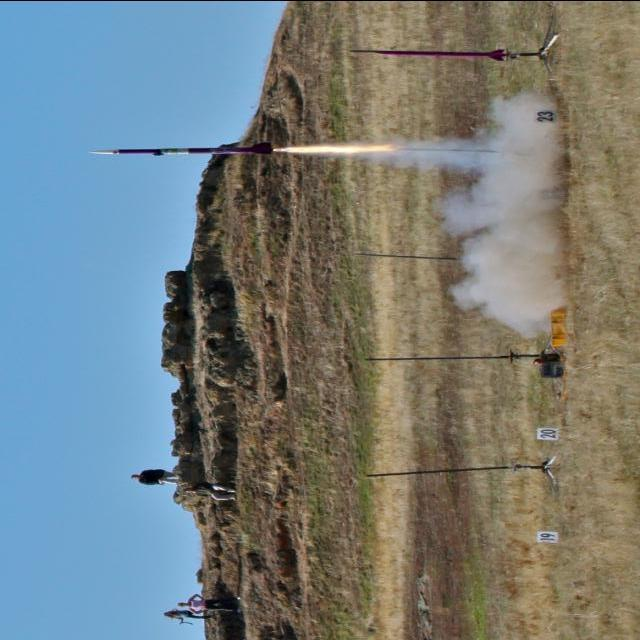missile: (90, 137, 275, 159), (351, 45, 506, 59)
